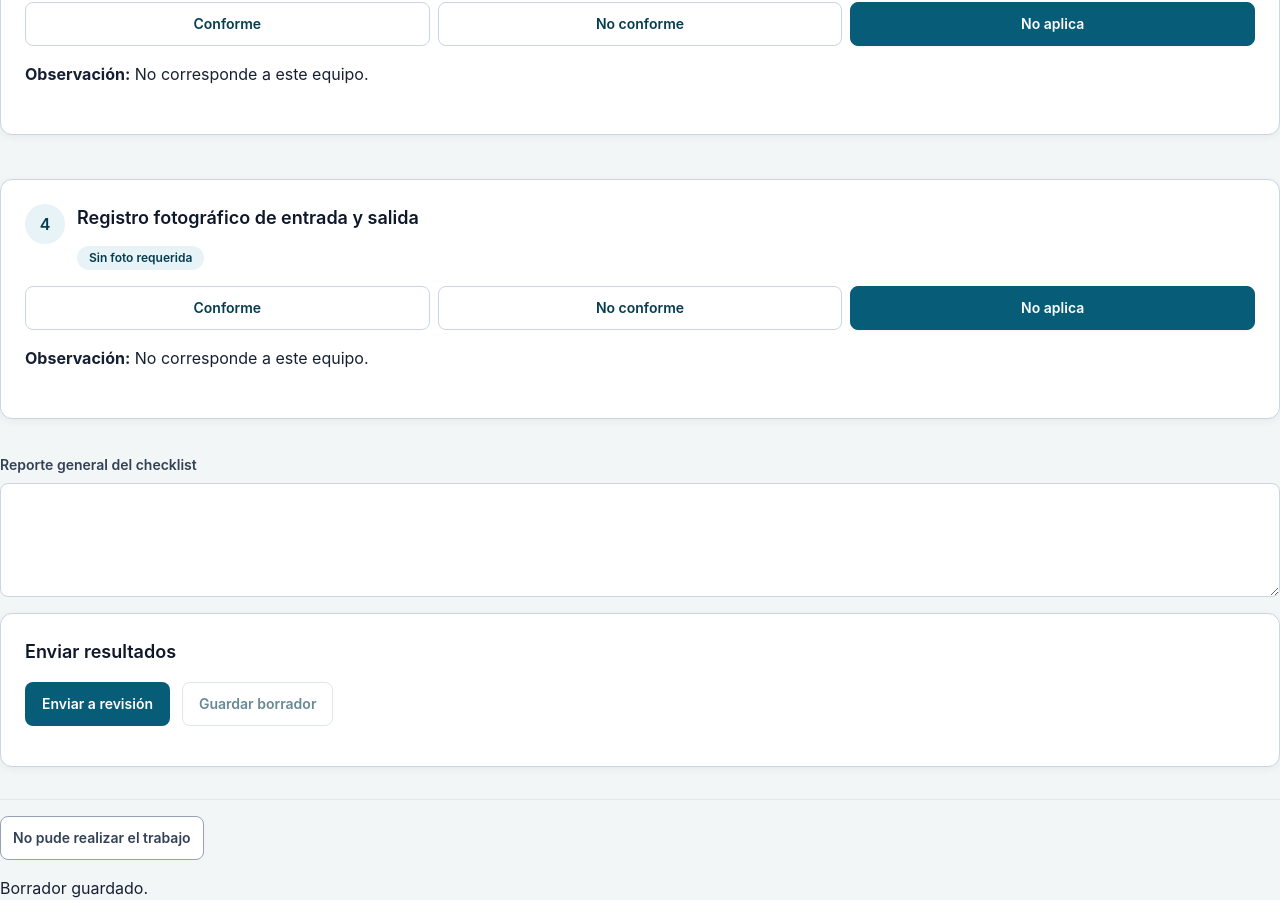
corrección de cierre conserva arrival aprobado, timestamps y envío anterior hasta reenviar
The width and height of the screenshot is (1280, 900).
(page scrolled)
Type "Descripción técnica corregida." into the text box labelled "Reporte general del checklist".
click(640, 540); type("Descripción técnica corregida.")  # box [0,483,1279,597]
(page scrolled)
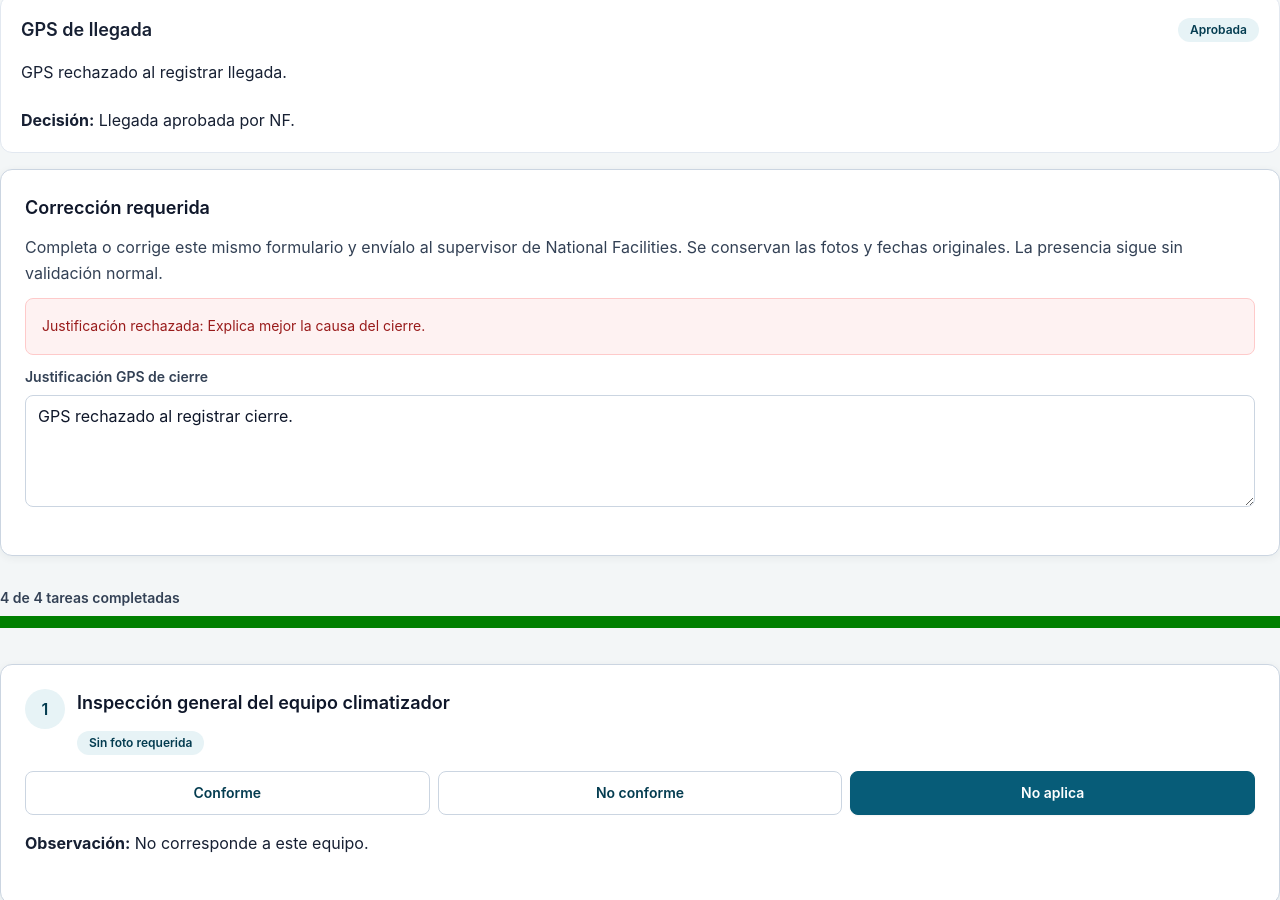
Replace the text in the text box labelled "Justificación GPS de cierre" with "El permiso de ubicación siguió denegado al terminar." at {"x": 640, "y": 451}, box [25,395,1255,507]
(page scrolled)
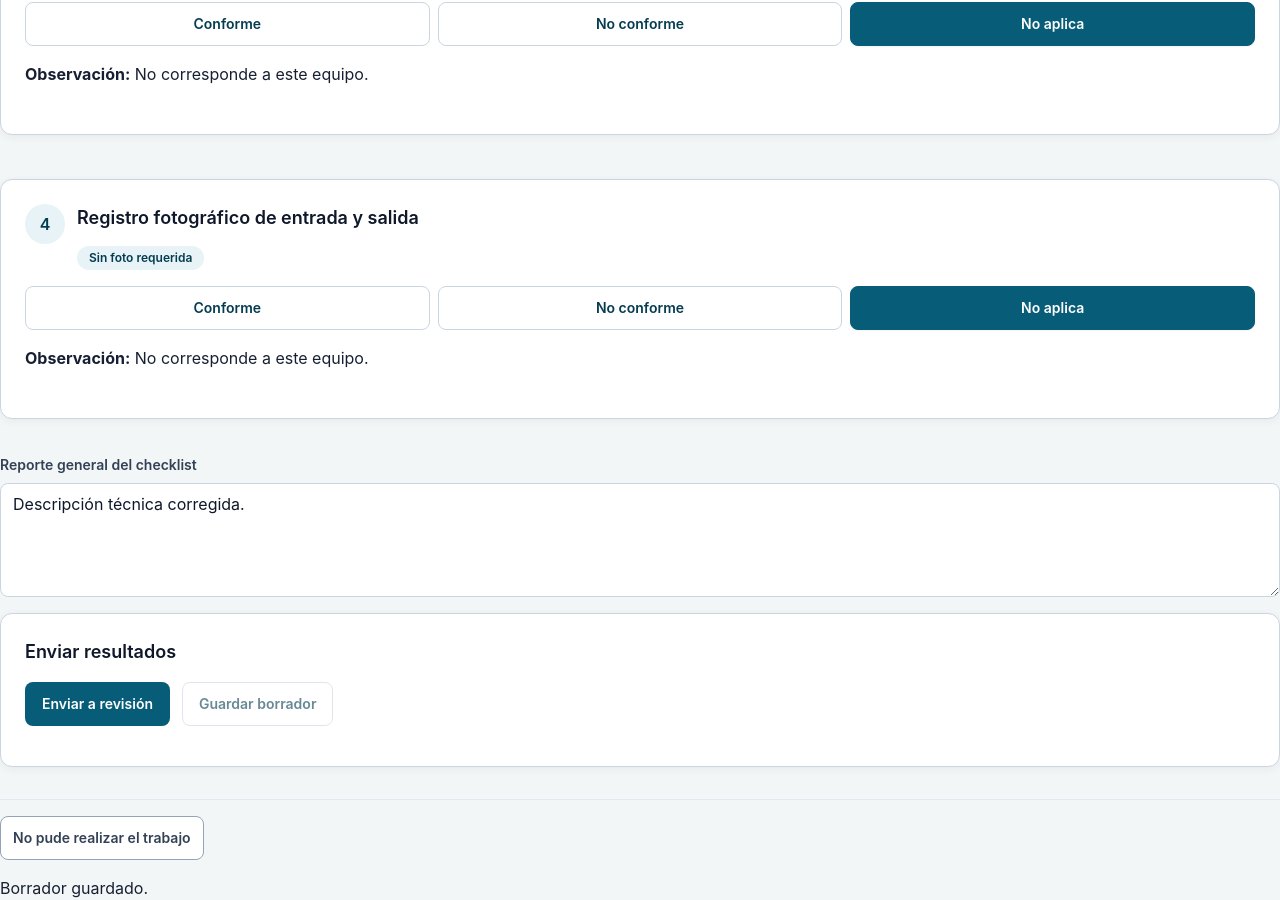
Click the button "Enviar a revisión".
click(98, 704)  # box [25,682,170,726]
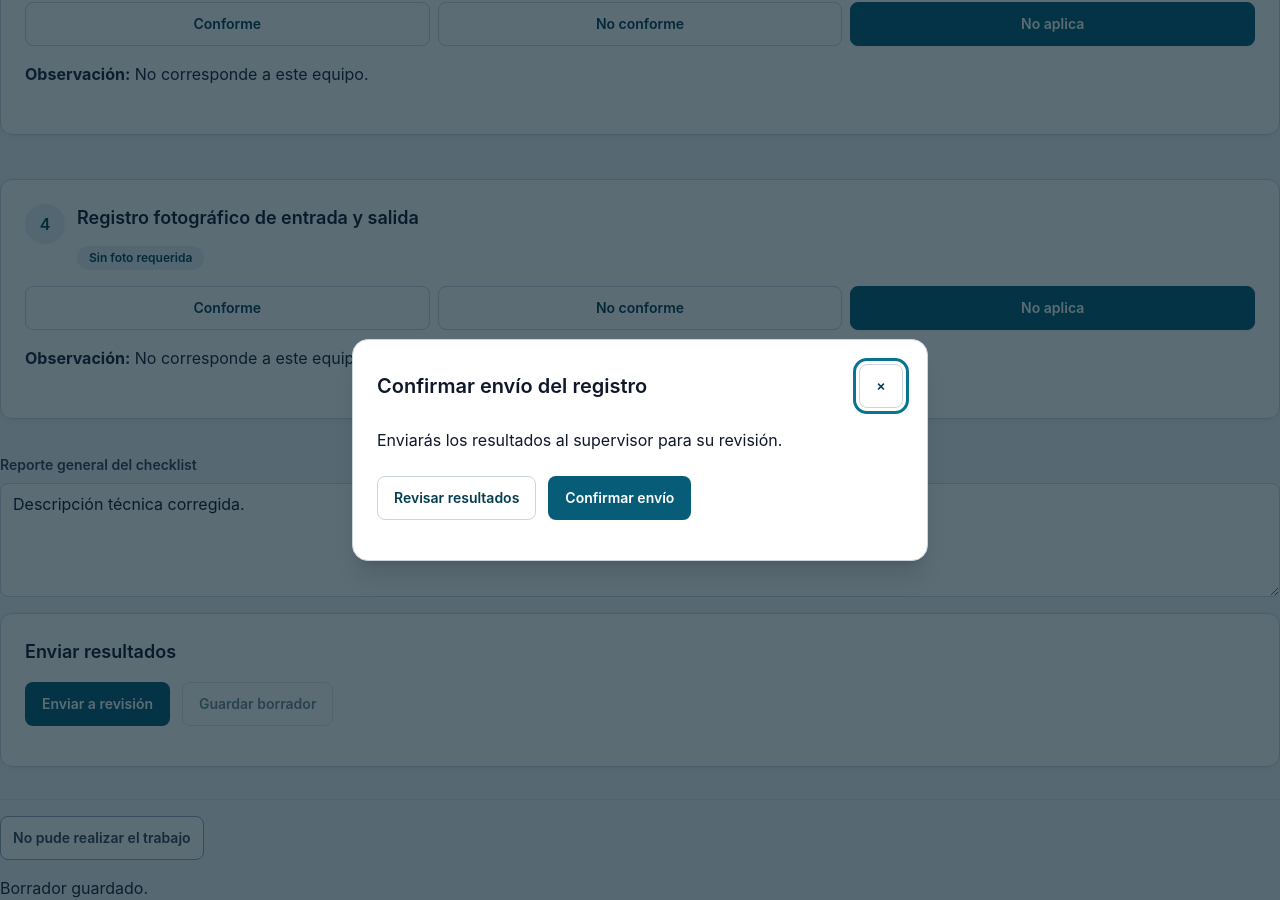
Expected: the button "Confirmar envío" is shown
Click the button "Confirmar envío".
click(620, 498)  # box [548,476,691,520]
(page scrolled)
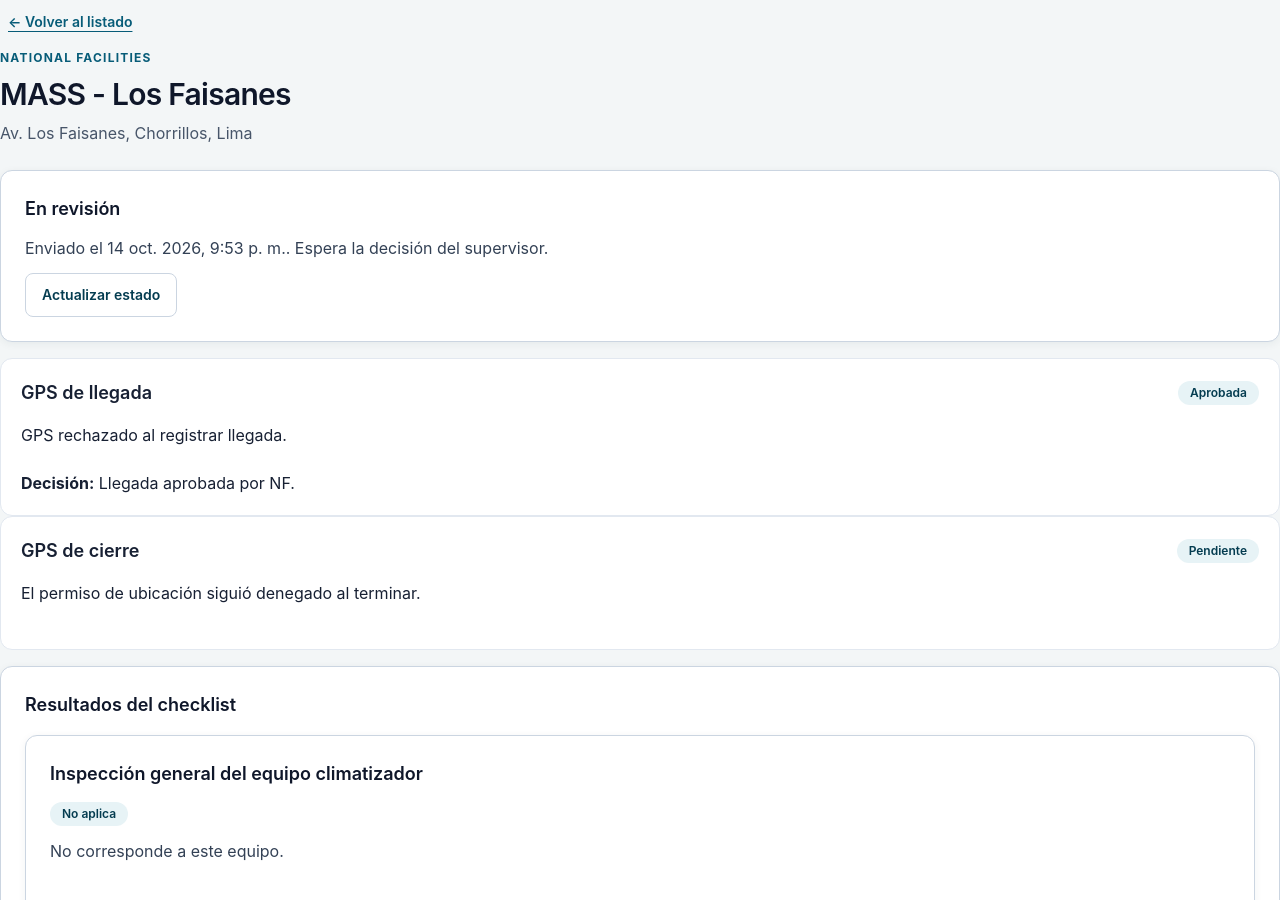
Expected: the text "GPS rechazado al registrar llegada." is shown, [21,425,287,445]
Expected: the heading "En revisión" is shown, [25,198,120,219]
Expected: the text "El permiso de ubicación siguió denegado al terminar." is shown, [21,583,421,603]
